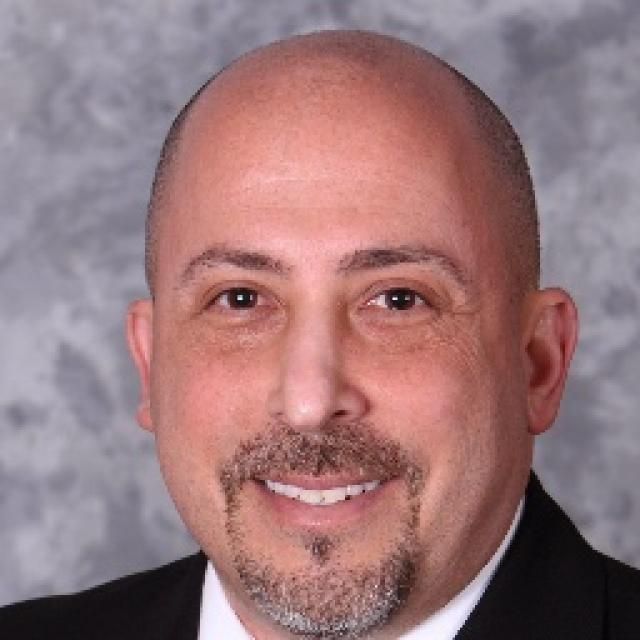earlobe: (529, 401, 560, 436), (139, 406, 159, 434)
eye: (362, 286, 437, 321), (204, 287, 279, 319)
nose: (266, 405, 368, 454)
wholeear: (523, 288, 575, 438), (119, 303, 159, 435)
